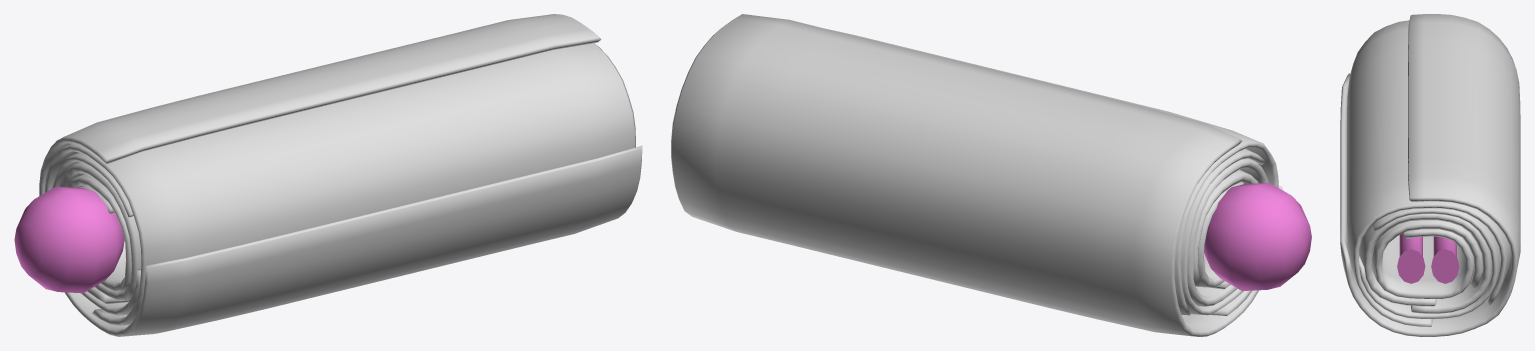
File: huton_0(5)_h.FBX
3 renders of one model, left to right at view 1: azimuth 30°, elevation 25°; view 2: azimuth 150°, elevation 25°; view 3: azimuth 270°, elevation 25°, orthographic. The views are drawn at different scales.
Visible parts, largest first — view 1: huton1; view 2: huton1; view 3: huton1.
Boxes of the visible parts, x1,y1,x2,y2 form: huton1: [14, 14, 642, 336]; huton1: [671, 14, 1311, 336]; huton1: [1340, 14, 1520, 336].
Bounding box in the file's own units: 181 × 57.15 × 63.68.
